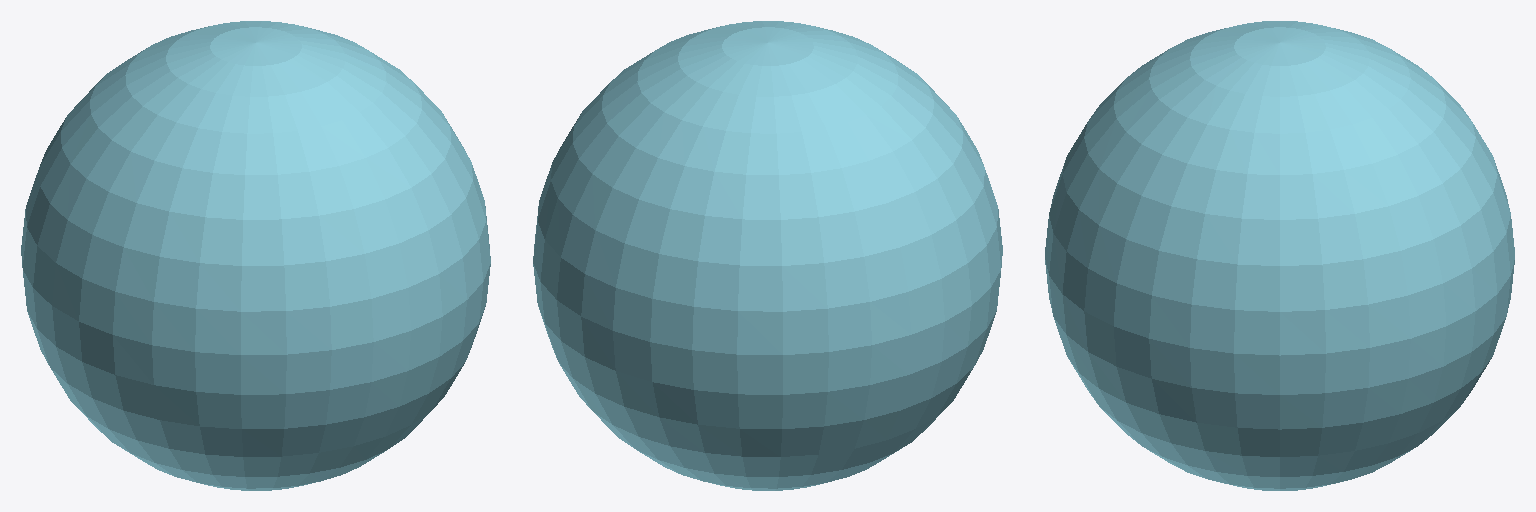
File: Moon.obj
3 views of the same model, side by side, from view 1: azimuth 30°, elevation 25°; view 2: azimuth 150°, elevation 25°; view 3: azimuth 270°, elevation 25° (orthographic).
Parts seen in each view (by area): view 1: Sphere001; view 2: Sphere001; view 3: Sphere001.
Part boxes in pixels (x1,y1,x2,y2): Sphere001: (21,21,490,490); Sphere001: (533,21,1002,490); Sphere001: (1045,21,1514,490).
Size of the model in its own units: 1 by 1 by 1.